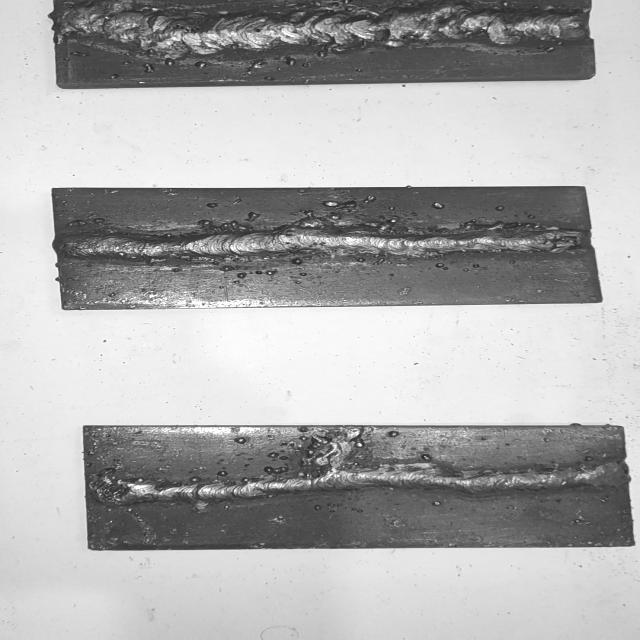Defect: (54, 2, 588, 60), (302, 429, 370, 496), (301, 194, 375, 233), (88, 468, 148, 509), (546, 218, 593, 262), (187, 214, 260, 236)
Welding Line: (57, 4, 587, 55), (100, 459, 622, 506), (59, 221, 586, 261)
Workpiece: (74, 420, 636, 552), (47, 184, 608, 314), (42, 0, 608, 94)
